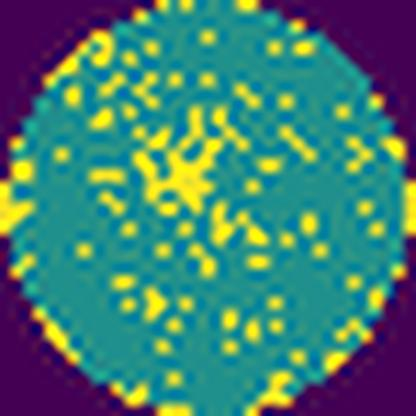Loc: (136, 122, 219, 212)
